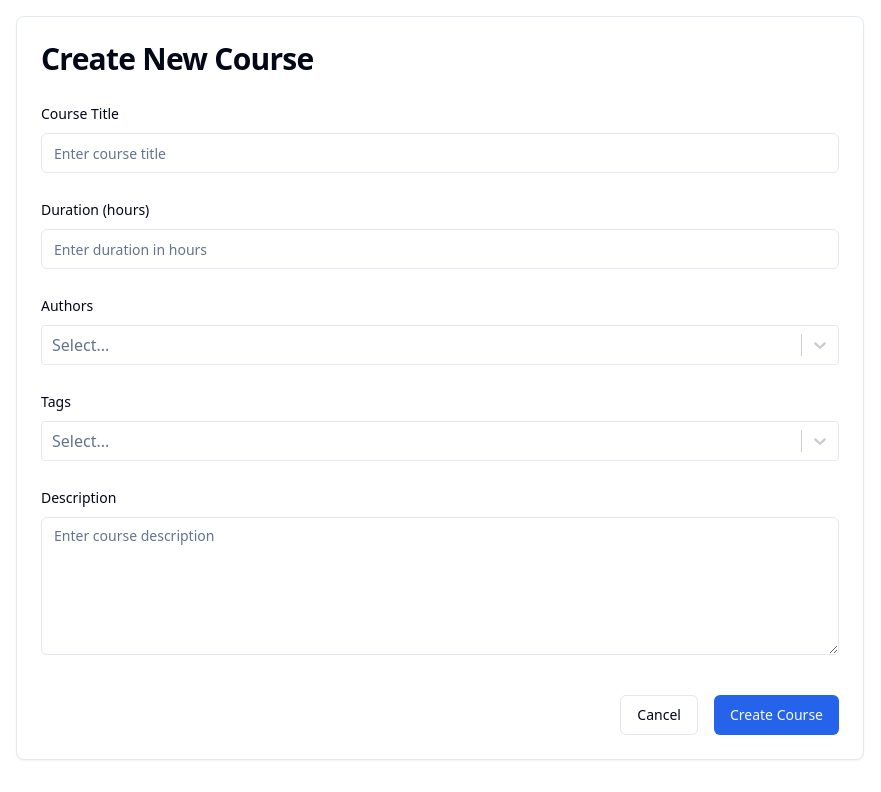
Test: CreateCourse › shows validation errors for required fields
Click the button "Create Course": {"x": 776, "y": 715} [714,695,839,735]
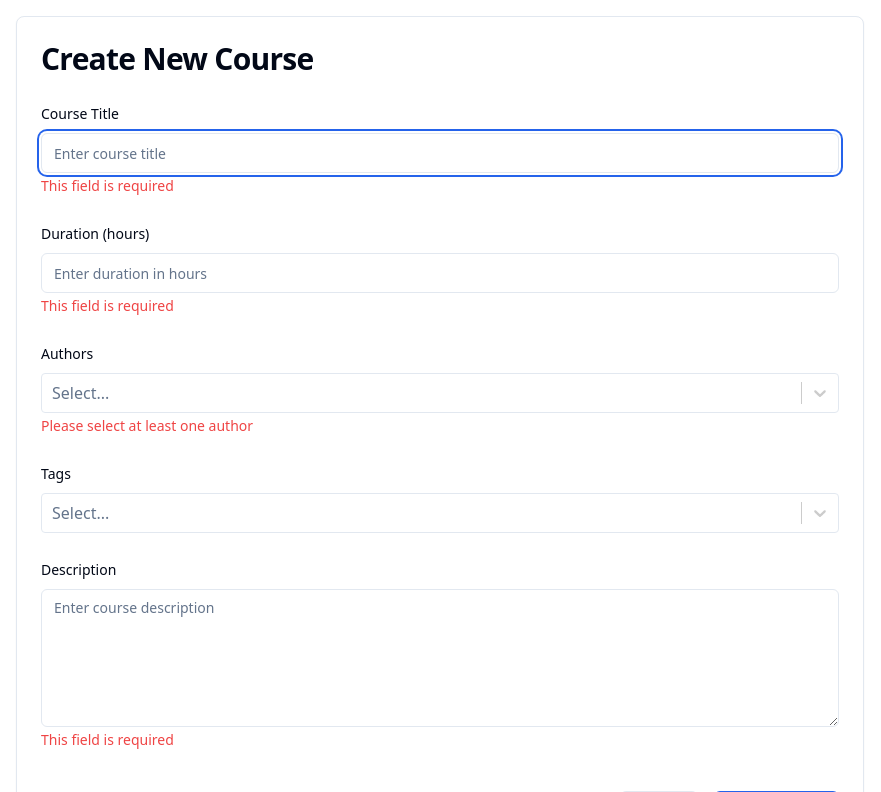
Expected: the text "This field is required" below "Course Title" is shown, [41,176,174,195]
